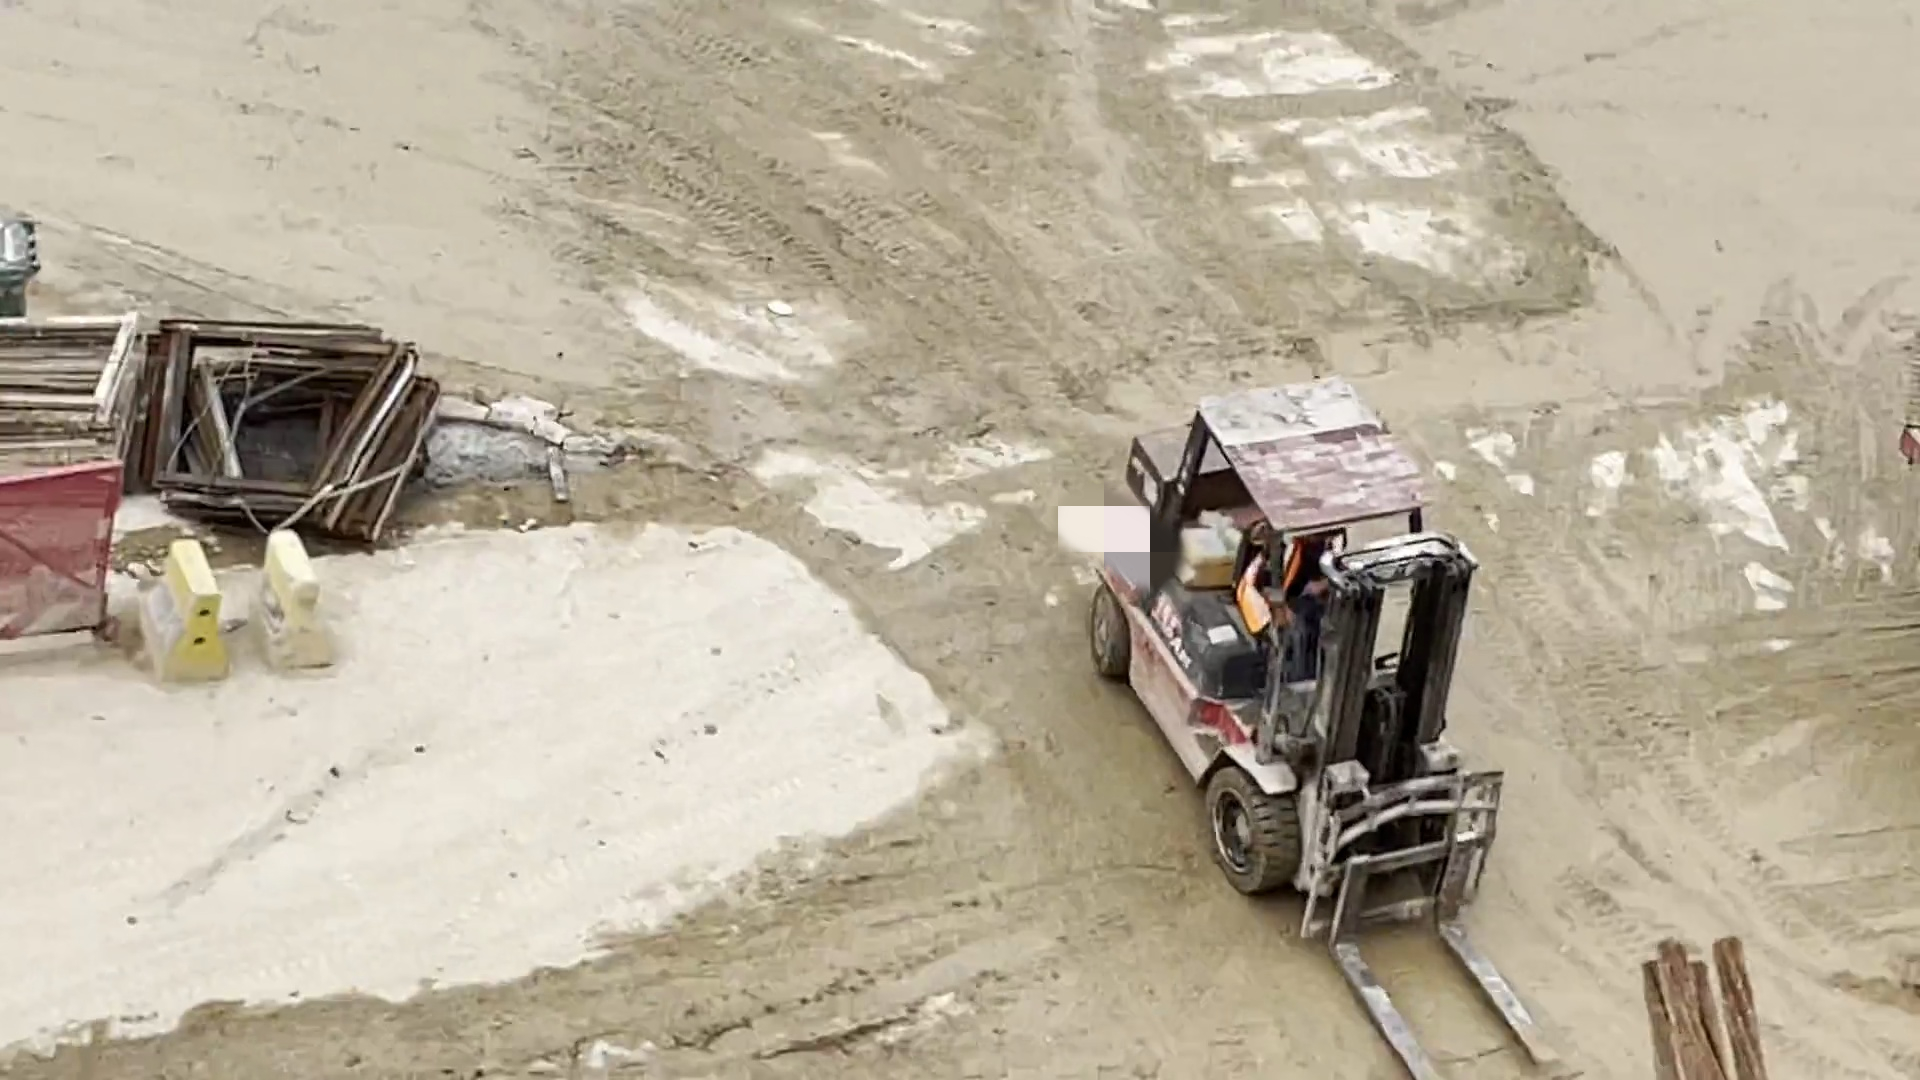vest: (1232, 534, 1329, 655)
